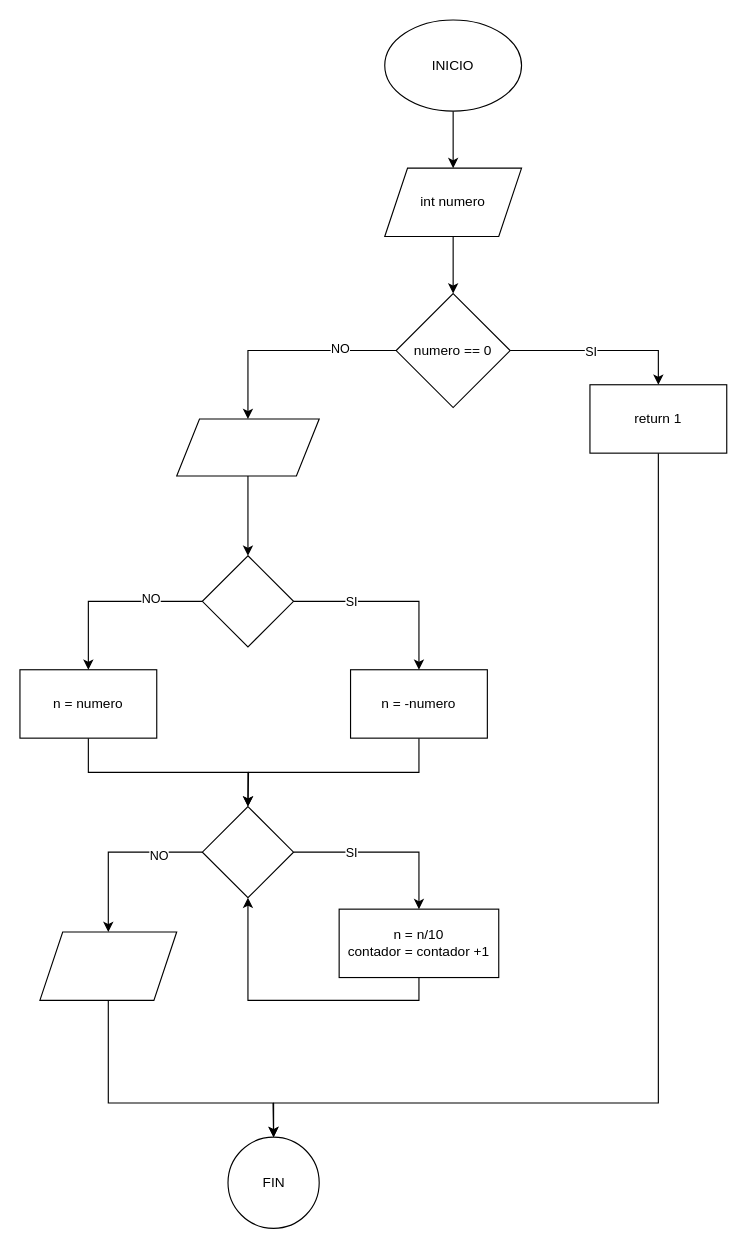
This 747x1248 diagram has some shape labels left out. Here are the shapes that lost their labels. From the top down, the box of each, then its label:
(176, 418, 319, 476): int contador = 0 int n
(201, 555, 294, 647): numero < 0
(201, 805, 294, 898): n > 0
(39, 931, 177, 1000): contador
